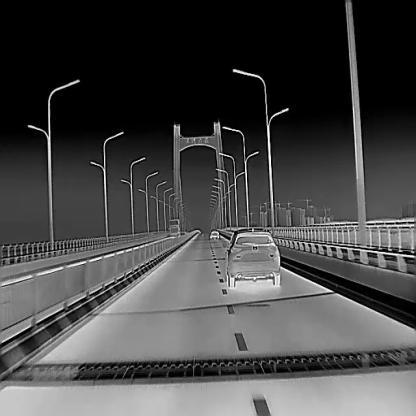car: (226, 227, 280, 287), (168, 219, 180, 237), (209, 228, 219, 238)
